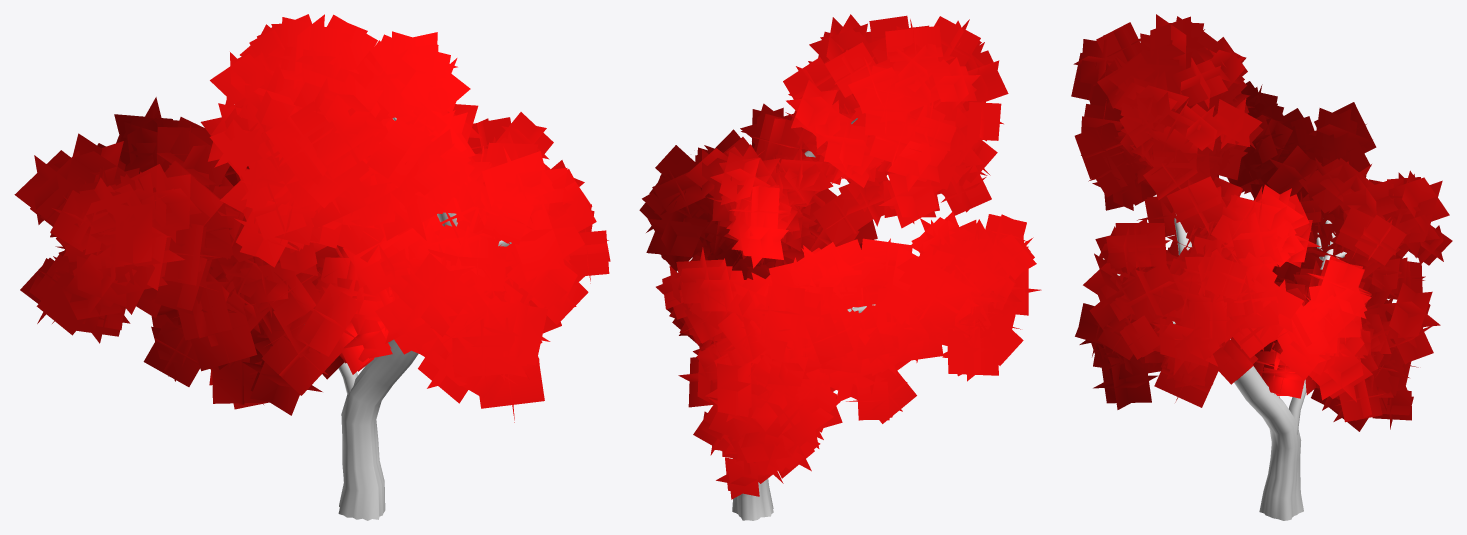
The model's file is SM_TreeTower_06.fbx.
3 views of the same model, side by side, from view 1: azimuth 30°, elevation 25°; view 2: azimuth 150°, elevation 25°; view 3: azimuth 270°, elevation 25° (orthographic). The views are drawn at different scales.
Visible parts, largest first — view 1: SM_TreeTower_06_LOD0; view 2: SM_TreeTower_06_LOD0; view 3: SM_TreeTower_06_LOD0.
Part boxes in pixels (x1=…): SM_TreeTower_06_LOD0: x1=14, y1=14, x2=610, y2=520; SM_TreeTower_06_LOD0: x1=639, y1=14, x2=1041, y2=520; SM_TreeTower_06_LOD0: x1=1071, y1=14, x2=1452, y2=520.
Size of what is drawn, in the model's own units: 16.2 by 17.5 by 13.66.
